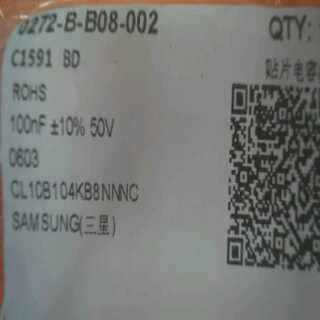100nF: (5, 110, 52, 142)
